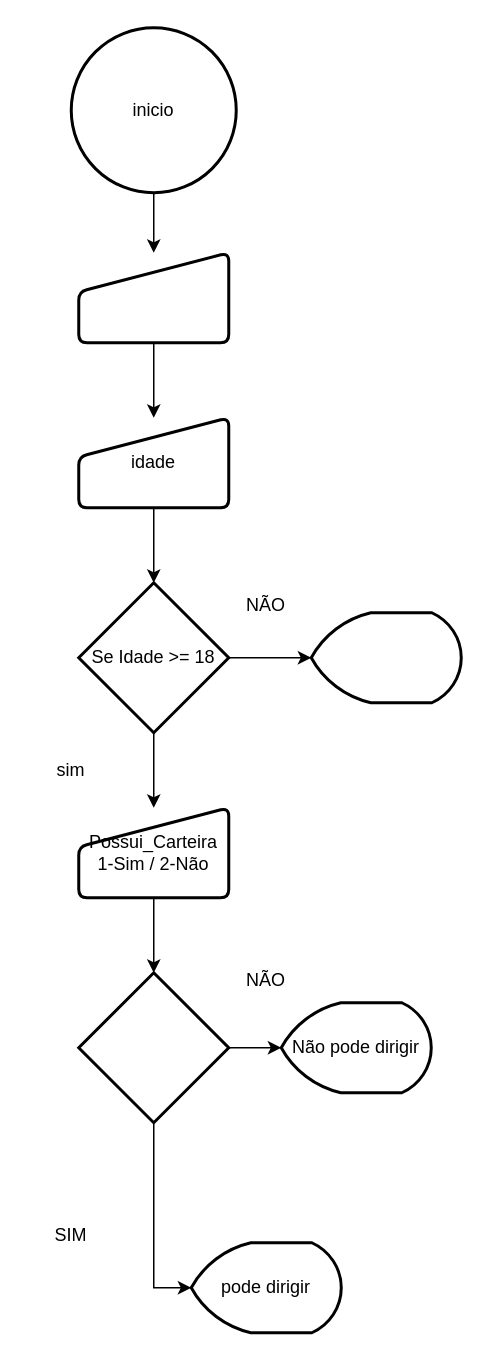
This 488x1359 diagram has some shape labels left out. Here are the shapes that lost their labels. From the top down, the centre of each, then its label:
At pixel 153 297: "nome".
At pixel 385 657: "menor de idade".
At pixel 153 1047: "possui_carteira ==1".
